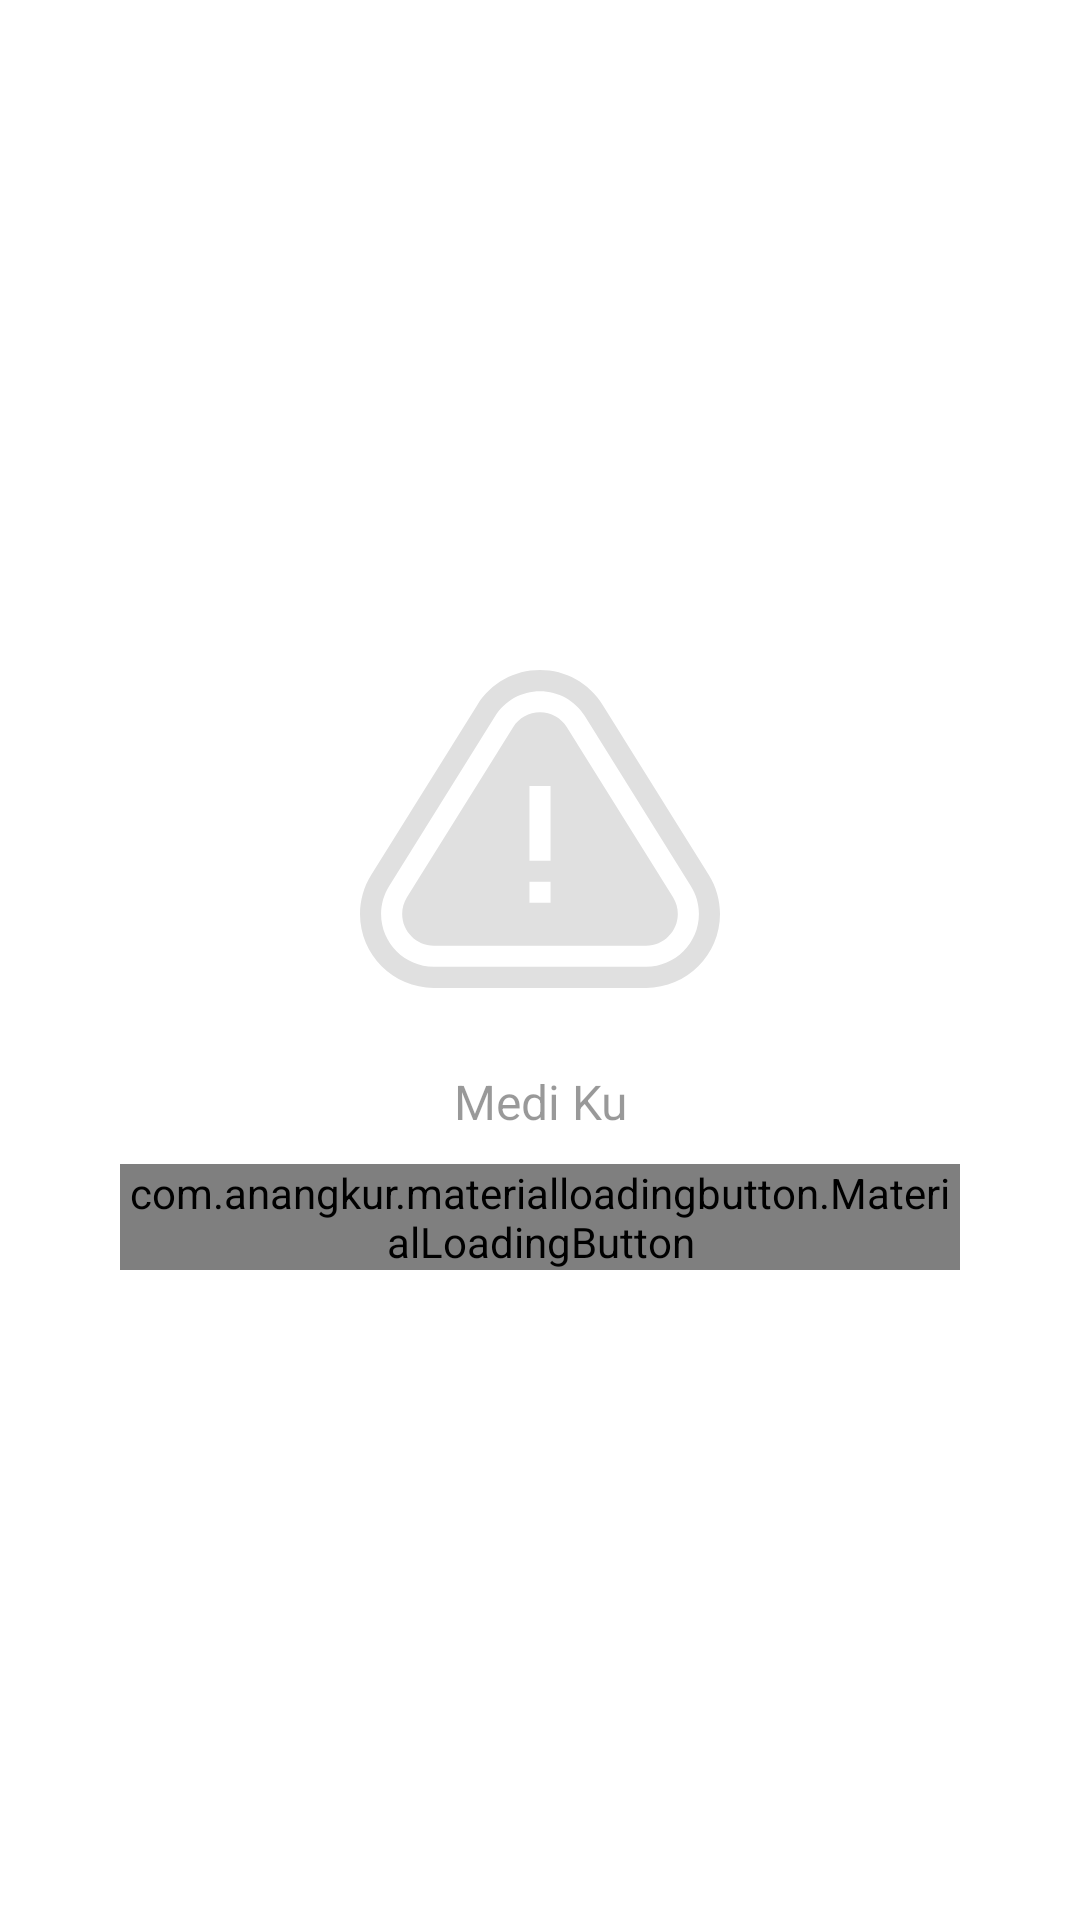

Where icons sit on this 1080px x 1920px app screen, as [x1=x1, y1=y1, x2=x2, y2=y2]:
problem: [x1=360, y1=670, x2=720, y2=988]
